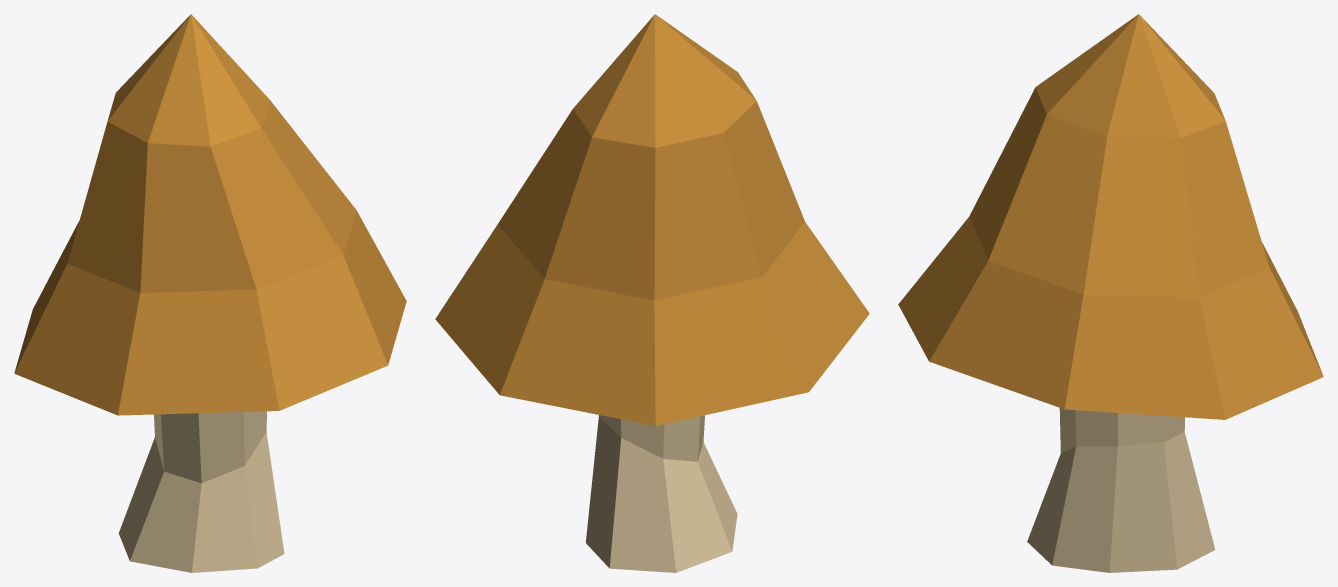
File: Mushroom_17.fbx
3 renders of one model, left to right at view 1: azimuth 30°, elevation 25°; view 2: azimuth 150°, elevation 25°; view 3: azimuth 270°, elevation 25°, orthographic.
Parts seen in each view (by area): view 1: Mushroom_17; view 2: Mushroom_17; view 3: Mushroom_17.
Part boxes in pixels (x1=…): Mushroom_17: x1=14, y1=14, x2=406, y2=572; Mushroom_17: x1=435, y1=14, x2=869, y2=572; Mushroom_17: x1=898, y1=14, x2=1323, y2=572.
Size of the model in its own units: 13.37 by 19.56 by 14.17.
